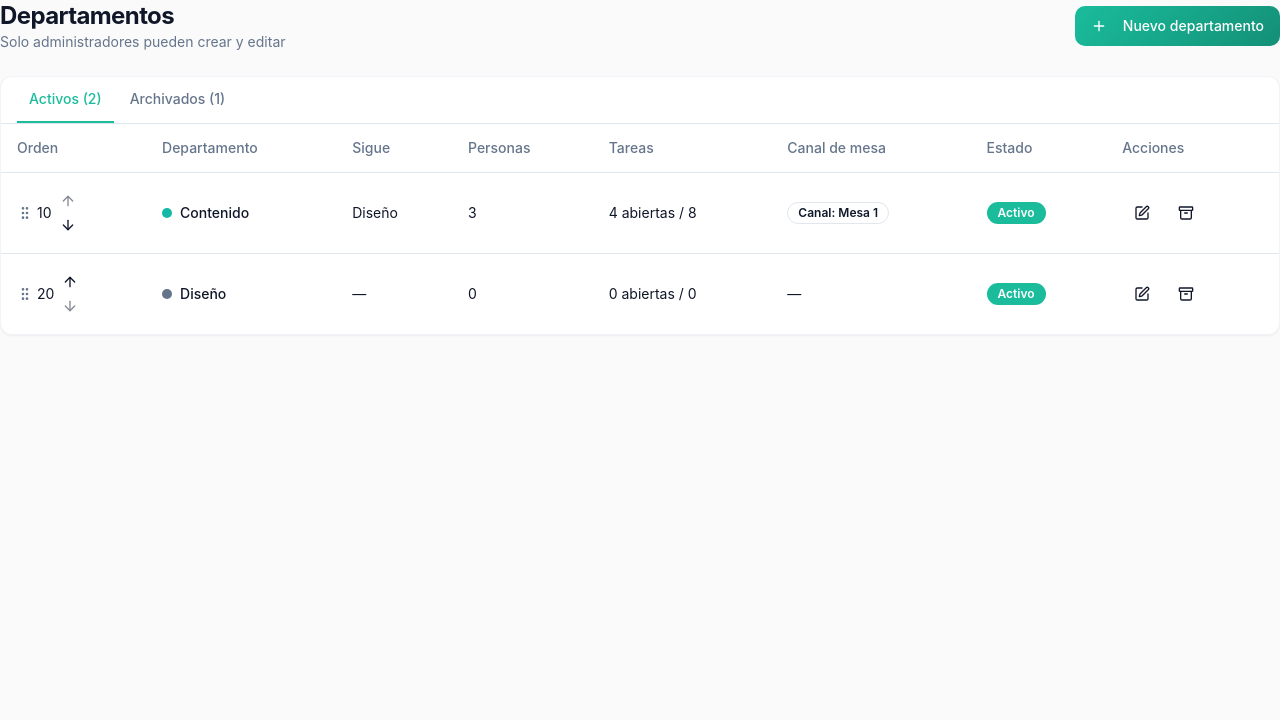
Test: Departamentos · S9 › previsualiza también personas inactivas porque el archivo mueve todos los perfiles
Expected: the text "Contenido" is shown, [162,202,249,222]
Click the button named "Archivar Contenido" at (1186, 212), box [1166,192,1206,232]
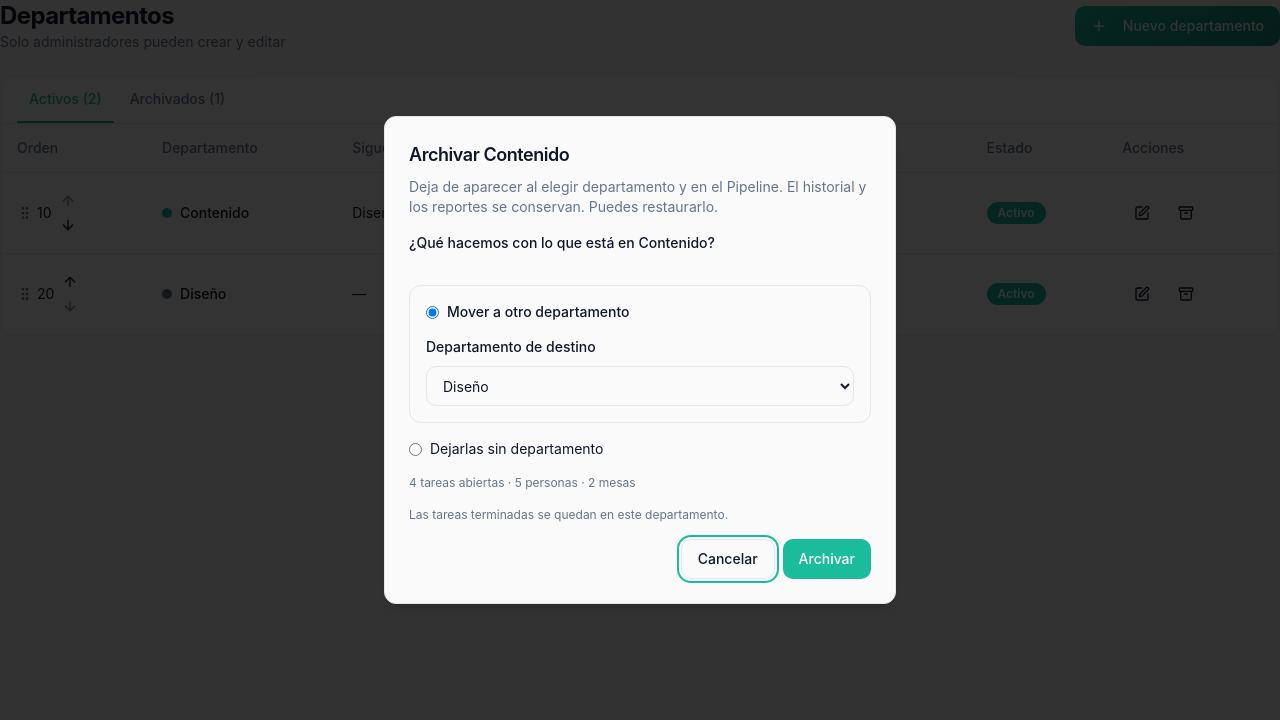
Expected: the text "4 tareas abiertas · 5 personas · 2 mesas" is shown, [409,475,636,490]
